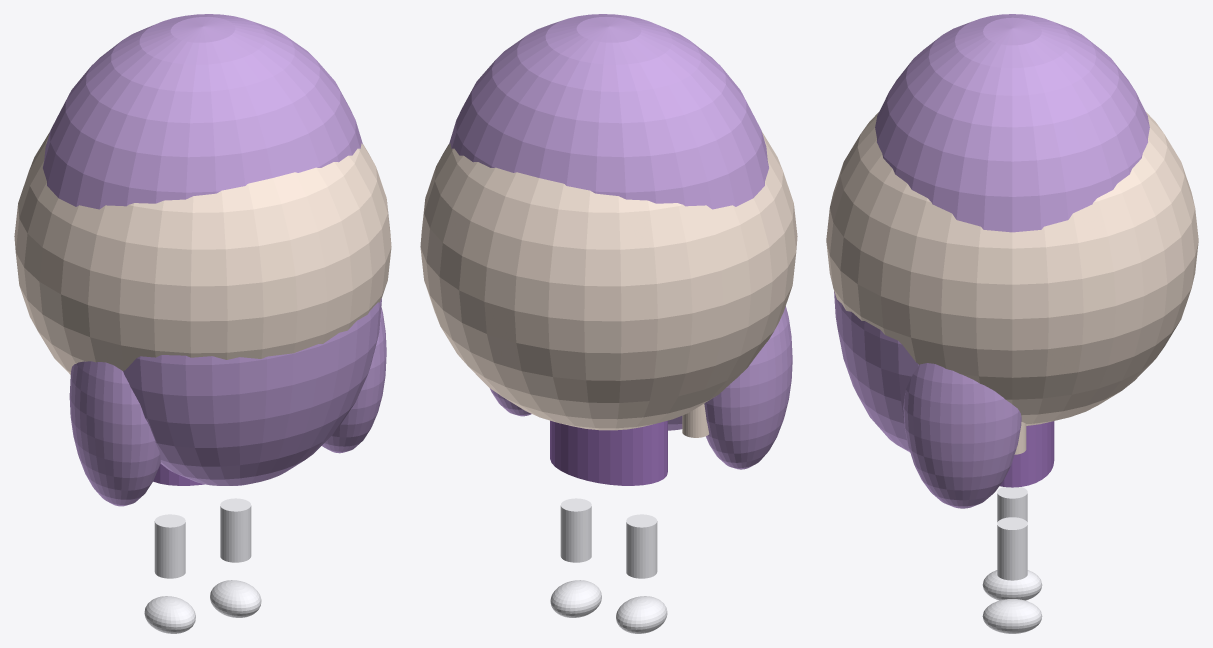
File: chibi_character.glb
3 views of the same model, side by side, from view 1: azimuth 30°, elevation 25°; view 2: azimuth 150°, elevation 25°; view 3: azimuth 270°, elevation 25° (orthographic).
Parts seen in each view (by area): view 1: Head, Hair_Top, Hair_Back, Hair_Strand_-1, Hair_Strand_1, Leg_L, Leg_R, Foot_L, Foot_R, Body; view 2: Head, Hair_Top, Hair_Strand_-1, Body, Leg_L, Leg_R, Foot_L, Foot_R, Arm_L; view 3: Head, Hair_Top, Hair_Strand_1, Hair_Back, Body, Leg_R, Foot_R, Foot_L, Leg_L.
Boxes of the visible parts, left/top/right/bottom form: Head: left=14, top=132, right=391, bottom=374; Hair_Top: left=43, top=14, right=362, bottom=209; Hair_Back: left=123, top=298, right=381, bottom=485; Hair_Strand_-1: left=69, top=361, right=160, bottom=506; Hair_Strand_1: left=322, top=307, right=386, bottom=453; Leg_L: left=154, top=514, right=185, bottom=578; Leg_R: left=220, top=498, right=251, bottom=562; Foot_L: left=144, top=596, right=195, bottom=633; Foot_R: left=210, top=580, right=261, bottom=617; Body: left=153, top=463, right=204, bottom=485; Head: left=420, top=132, right=797, bottom=430; Hair_Top: left=449, top=14, right=768, bottom=209; Hair_Strand_-1: left=704, top=306, right=792, bottom=469; Body: left=550, top=420, right=667, bottom=485; Leg_L: left=626, top=514, right=657, bottom=578; Leg_R: left=560, top=498, right=591, bottom=562; Foot_L: left=616, top=596, right=667, bottom=633; Foot_R: left=550, top=580, right=601, bottom=617; Arm_L: left=682, top=404, right=709, bottom=437; Head: left=826, top=112, right=1198, bottom=425; Hair_Top: left=875, top=14, right=1149, bottom=232; Hair_Strand_1: left=903, top=363, right=1021, bottom=508; Hair_Back: left=834, top=291, right=918, bottom=452; Body: left=1000, top=421, right=1054, bottom=487; Leg_R: left=997, top=517, right=1027, bottom=580; Foot_R: left=982, top=599, right=1042, bottom=633; Foot_L: left=982, top=570, right=1042, bottom=600; Leg_L: left=997, top=487, right=1027, bottom=521.
Bounding box in the file's own units: 1.5 × 2.61 × 1.5.
